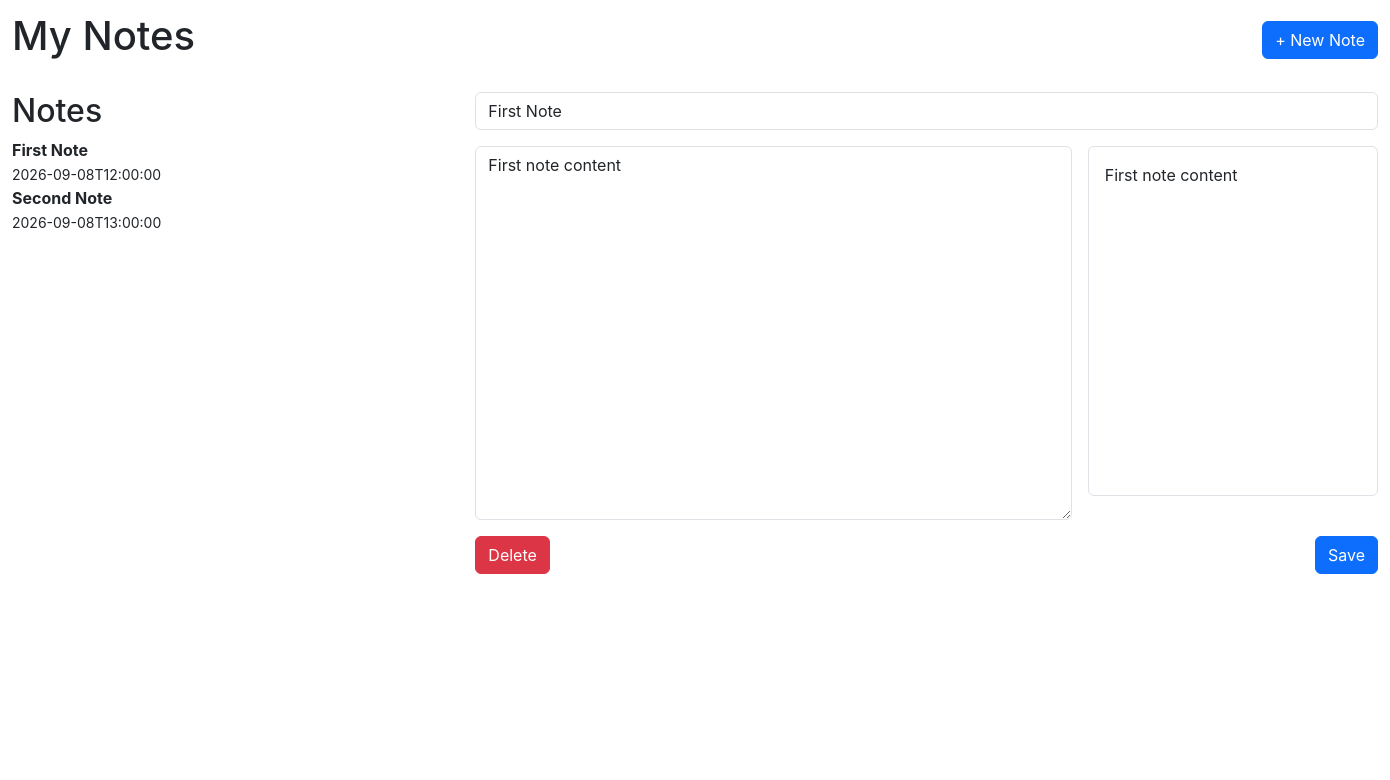
Scenario: Notes › selects another note from the note list
Click the button "Second Note 2026-09-08T13:00:00" at (62, 198), box [12, 186, 451, 234]
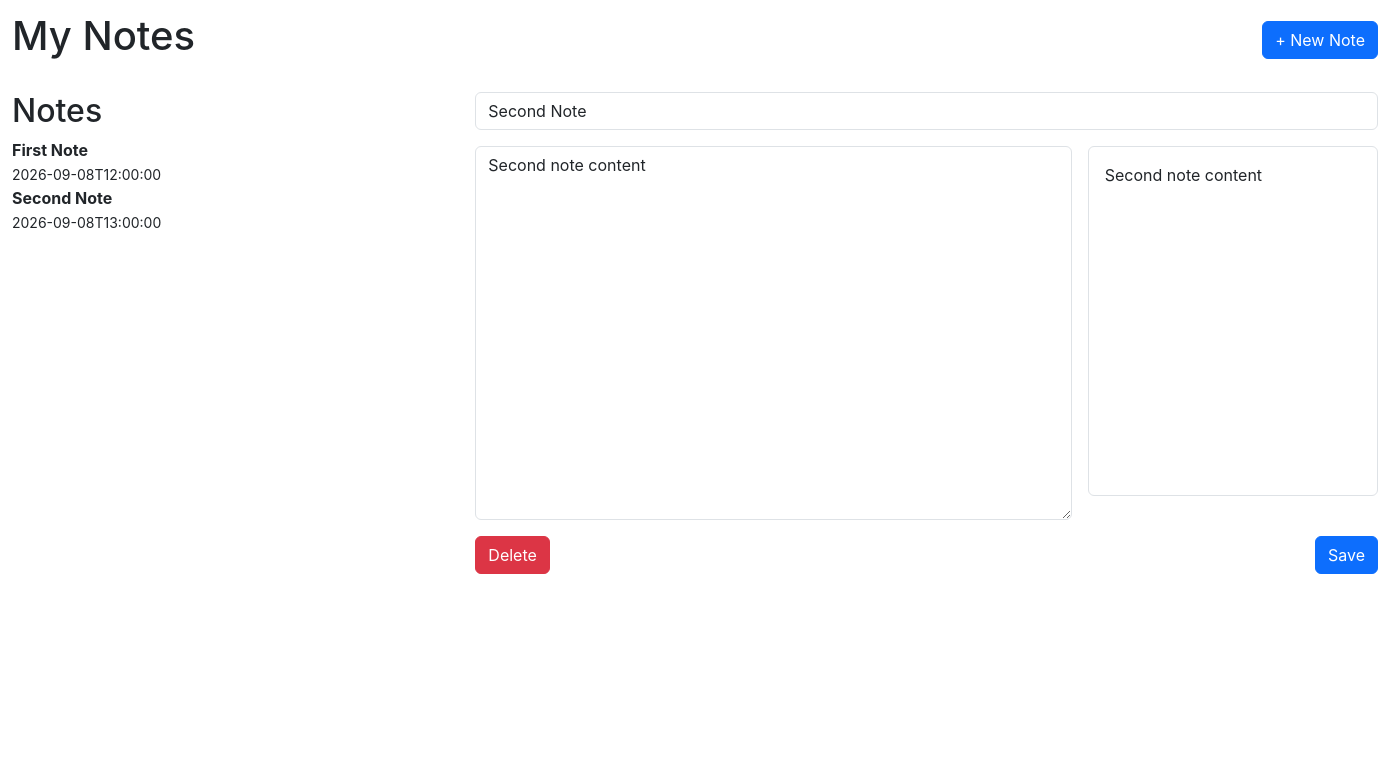
Now the field showing "Second Note" is shown, box [475, 92, 1378, 130]
Now the text box showing "Second note content" is shown, box [475, 146, 1072, 520]
